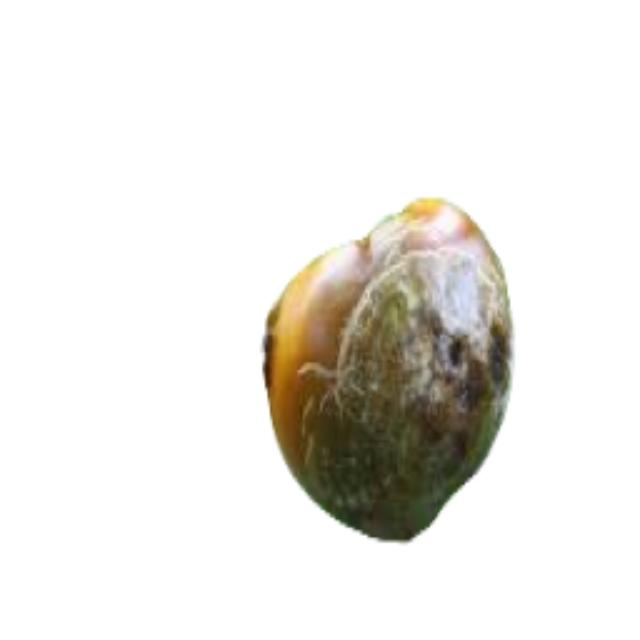defect: (256, 192, 514, 544)
